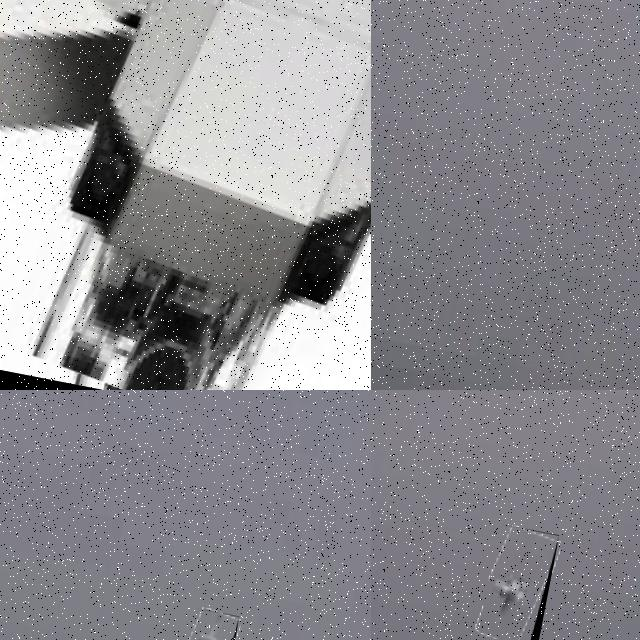0: (477, 524, 559, 640), (177, 607, 239, 640)
drone: (0, 0, 371, 390)
